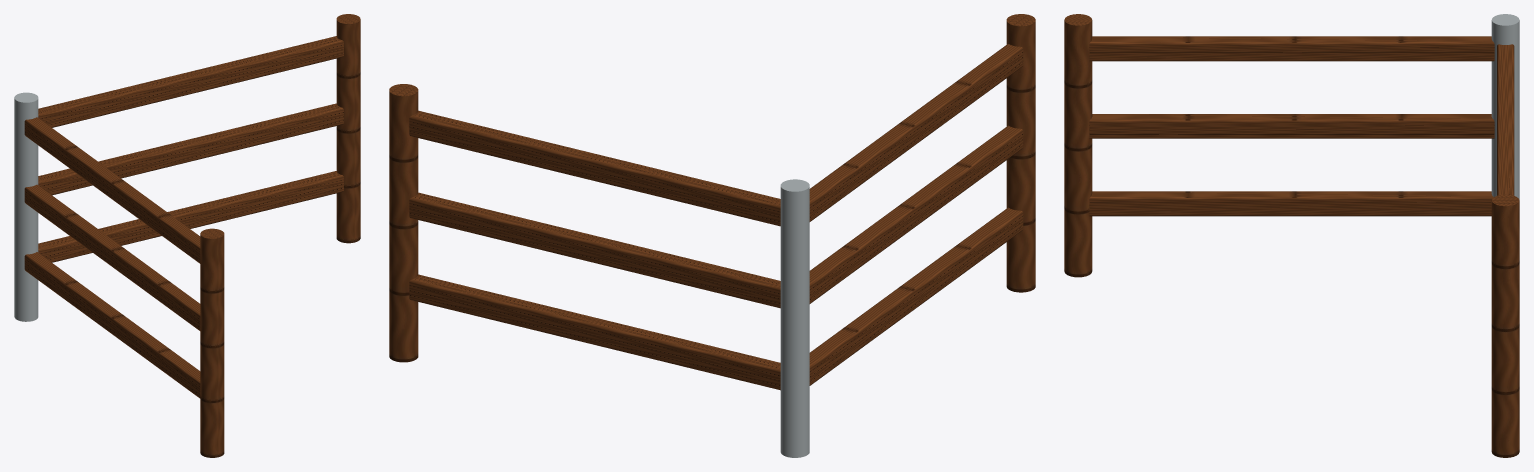
File: creature-husbandry-and-transport-pen-corner-fbe8f6e0__23987.glb
The picture shows the model from 3 angles, left to right: view 1: azimuth 30°, elevation 25°; view 2: azimuth 150°, elevation 25°; view 3: azimuth 270°, elevation 25°; orthographic projection. The views are drawn at different scales.
Parts seen in each view (by area): view 1: pen-corner; view 2: pen-corner; view 3: pen-corner.
Boxes of the visible parts, <box> form: pen-corner: <box>14,14,360,457</box>; pen-corner: <box>389,14,1035,457</box>; pen-corner: <box>1064,14,1519,457</box>.
Bounding box in the file's own units: 2.13 × 1.3 × 2.13.
2 materials, 1 textured.
